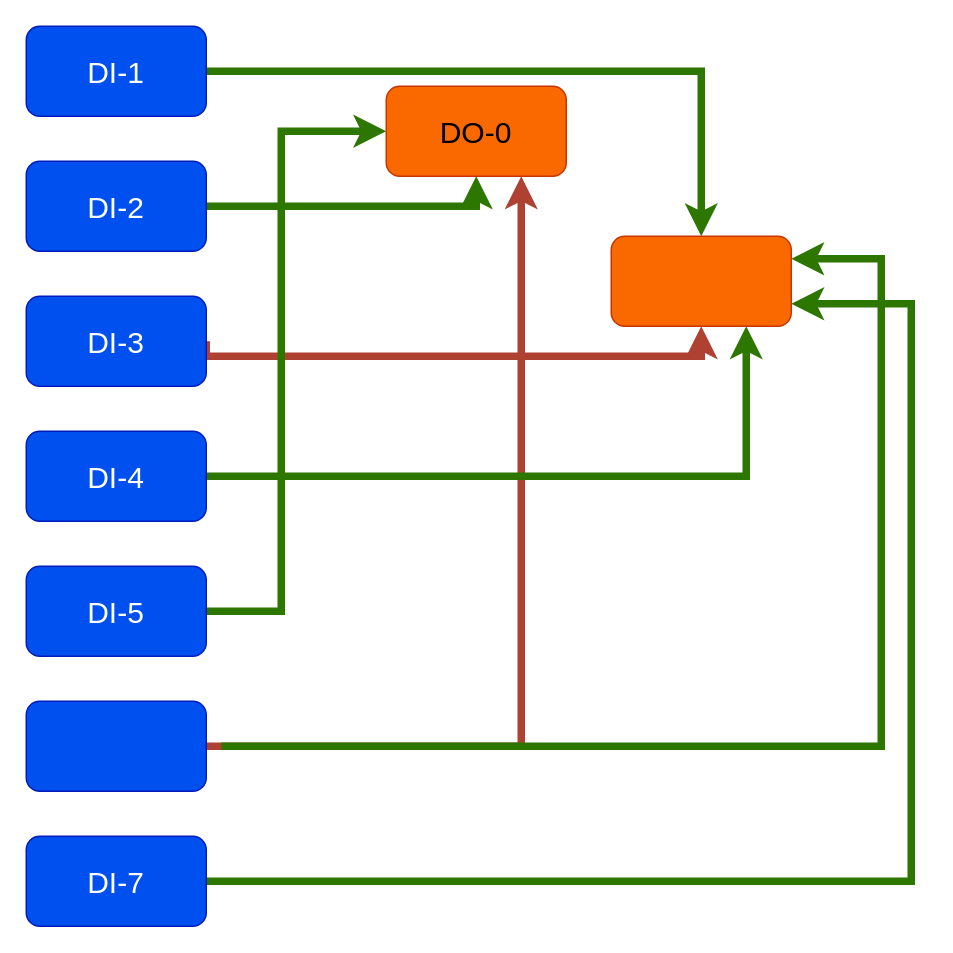
This 953x953 diagram has some shape labels left out. The centre of each missing label's shape, as x and y in pixels:
DI-6: point 115,745
DO-1: point 700,280
